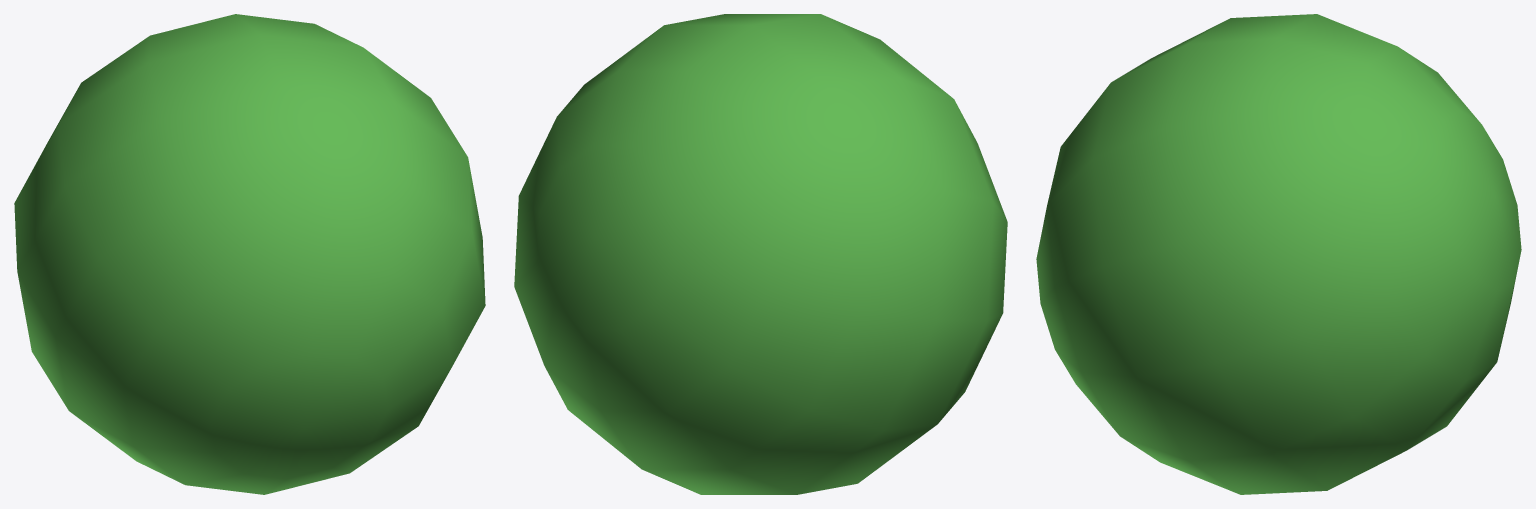
Rendered from linfatico-node-of-arch-of-azygos-vein.glb.
3 views of the same model, side by side, from view 1: azimuth 30°, elevation 25°; view 2: azimuth 150°, elevation 25°; view 3: azimuth 270°, elevation 25° (orthographic). The views are drawn at different scales.
Visible parts, largest first — view 1: Node of arch of azygos vein; view 2: Node of arch of azygos vein; view 3: Node of arch of azygos vein.
Part boxes in pixels (box(x1,y1,x2,y2)): Node of arch of azygos vein: box(14, 14, 485, 494); Node of arch of azygos vein: box(514, 14, 1007, 494); Node of arch of azygos vein: box(1036, 14, 1521, 494).
Size of the model in its own units: 0.00257 by 0.0026 by 0.00259.
